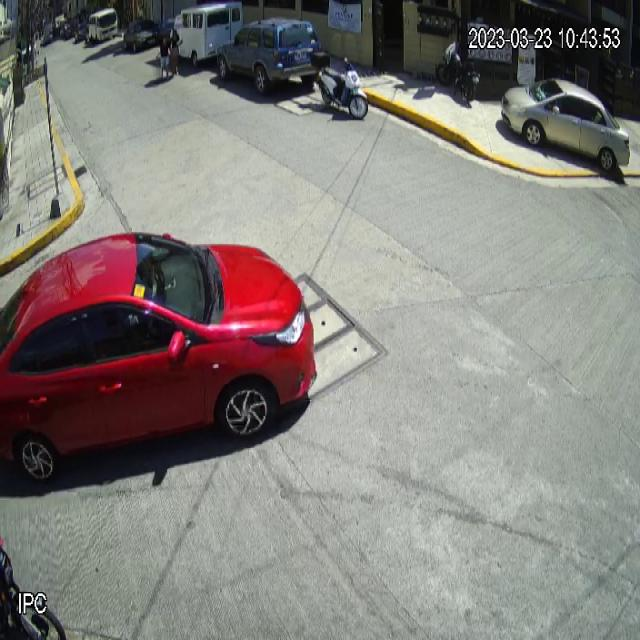Car: (0, 230, 317, 484), (500, 78, 630, 174), (218, 15, 322, 96)
Motorcycle: (310, 50, 369, 117)
Van: (169, 2, 244, 68)
